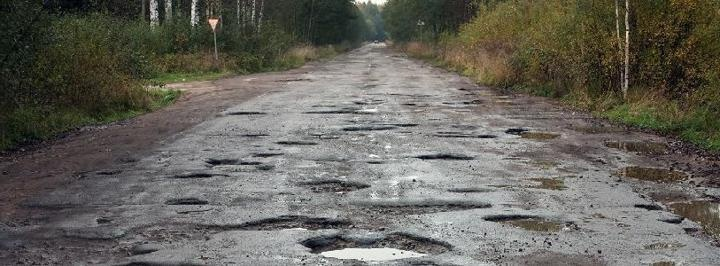pothole: (0, 230, 160, 265), (301, 230, 459, 262), (632, 192, 720, 247), (335, 199, 492, 215), (479, 211, 576, 236), (292, 179, 374, 193), (502, 127, 561, 141), (204, 156, 261, 169), (413, 152, 476, 162), (163, 195, 209, 208), (342, 122, 394, 133), (174, 170, 220, 181)
